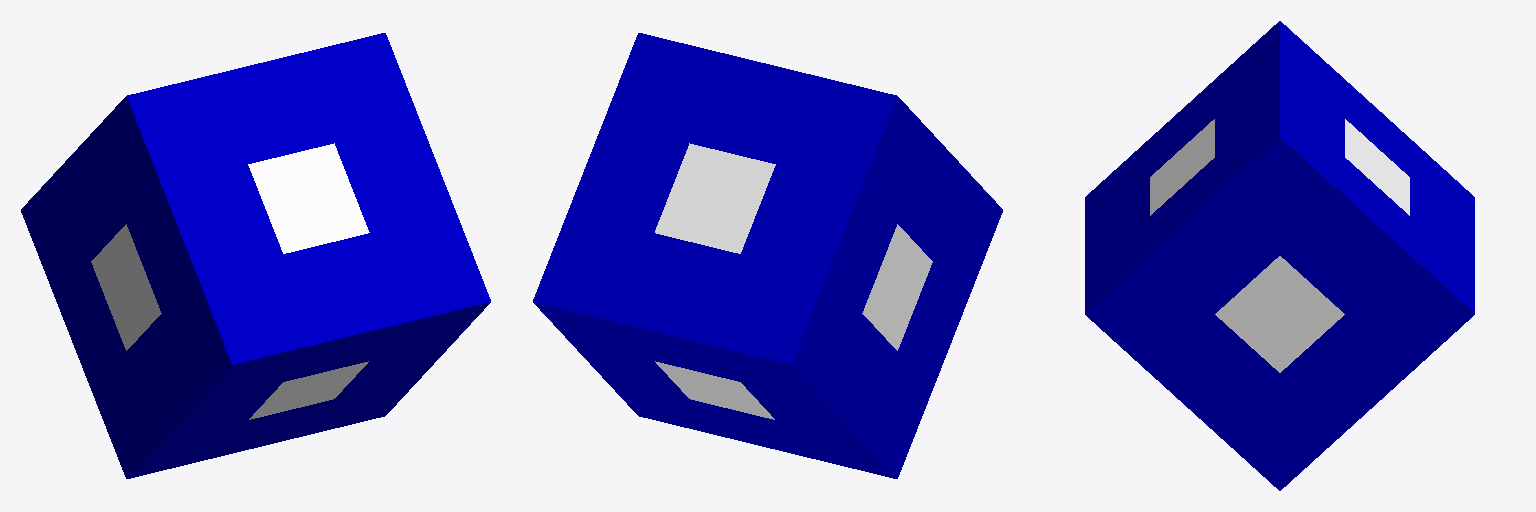
The robot description file, URDF, robot "rubiks":
<?xml version="1.0" ?>
<robot name="rubiks">

  <material name="white">
    <color rgba="1 1 1 1"/>
  </material>

  <material name="grey">
    <color rgba="0.5 0.5 0.5 1.0"/>
  </material>
            
  <material name="blue">
    <color rgba="0 0 .8 1"/>
  </material>
      
  <link name="world"/>

  <link name="rubiks">
    <visual>
      <origin rpy="0 0 0" xyz="0 0 0"/>
      <geometry>
		<mesh filename="noyau.stl" scale="0.001 0.001 0.001"/>
      </geometry>
      <material name="grey"/>
    </visual>
    <collision>
      <origin rpy="0 0 0" xyz="0 0 0"/>
      <geometry>
	    <mesh filename="noyau.stl" scale="0.001 0.001 0.001"/>
      </geometry>
    </collision>
  </link>

  <joint name="world_to_rubiks" type="floating">
    <origin xyz="0 0.078575 0" rpy="-0.785398163 0 0"/>
    <parent link="world"/>
    <child link="rubiks"/>
    <limit effort="100" velocity="100"/>
    <joint_properties damping="0.0" friction="0.0"/>
  </joint>
      
  <link name="centre01">
    <visual>
      <origin rpy="0 0 0" xyz="0 0 0"/>
      <geometry>
		<mesh filename="centre01.stl" scale="0.001 0.001 0.001"/>
      </geometry>
      <material name="white"/>
    </visual>
    <collision>
      <origin rpy="0 0 0" xyz="0 0 0"/>
      <geometry>
	    <mesh filename="centre01.stl" scale="0.001 0.001 0.001"/>
      </geometry>
    </collision>
  </link>

  <link name="centre02">
    <visual>
      <origin rpy="0 0 0" xyz="0 0 0"/>
      <geometry>
		<mesh filename="centre02.stl" scale="0.001 0.001 0.001"/>
      </geometry>
      <material name="white"/>
    </visual>
    <collision>
      <origin rpy="0 0 0" xyz="0 0 0"/>
      <geometry>
	    <mesh filename="centre02.stl" scale="0.001 0.001 0.001"/>
      </geometry>
    </collision>
  </link>

  <link name="centre03">
    <visual>
      <origin rpy="0 0 0" xyz="0 0 0"/>
      <geometry>
		<mesh filename="centre03.stl" scale="0.001 0.001 0.001"/>
      </geometry>
      <material name="white"/>
    </visual>
    <collision>
      <origin rpy="0 0 0" xyz="0 0 0"/>
      <geometry>
	    <mesh filename="centre03.stl" scale="0.001 0.001 0.001"/>
      </geometry>
    </collision>
  </link>

  <link name="centre04">
    <visual>
      <origin rpy="0 0 0" xyz="0 0 0"/>
      <geometry>
		<mesh filename="centre04.stl" scale="0.001 0.001 0.001"/>
      </geometry>
      <material name="white"/>
    </visual>
    <collision>
      <origin rpy="0 0 0" xyz="0 0 0"/>
      <geometry>
	    <mesh filename="centre04.stl" scale="0.001 0.001 0.001"/>
      </geometry>
    </collision>
  </link>

  <link name="centre05">
    <visual>
      <origin rpy="0 0 0" xyz="0 0 0"/>
      <geometry>
		<mesh filename="centre05.stl" scale="0.001 0.001 0.001"/>
      </geometry>
      <material name="white"/>
    </visual>
    <collision>
      <origin rpy="0 0 0" xyz="0 0 0"/>
      <geometry>
	    <mesh filename="centre05.stl" scale="0.001 0.001 0.001"/>
      </geometry>
    </collision>
  </link>
  
  <link name="centre06">
    <visual>
      <origin rpy="0 0 0" xyz="0 0 0"/>
      <geometry>
		<mesh filename="centre06.stl" scale="0.001 0.001 0.001"/>
      </geometry>
      <material name="white"/>
    </visual>
    <collision>
      <origin rpy="0 0 0" xyz="0 0 0"/>
      <geometry>
	    <mesh filename="centre06.stl" scale="0.001 0.001 0.001"/>
      </geometry>
    </collision>
  </link>    
  
  <joint name="centre01_joint" type="continuous">
    <axis xyz="0 0 -1"/>
    <origin xyz="0 0 0"/>
    <parent link="rubiks"/>
    <child link="centre01"/>
    <limit effort="100" velocity="100"/>
    <joint_properties damping="0.0" friction="0.0"/>
  </joint>

  <joint name="centre02_joint" type="continuous">
    <axis xyz="0 0 1"/>
    <origin xyz="0 0 0"/>
    <parent link="rubiks"/>
    <child link="centre02"/>
    <limit effort="100" velocity="100"/>
    <joint_properties damping="0.0" friction="0.0"/>
  </joint>
  
  <joint name="centre03_joint" type="continuous">
    <axis xyz="0 1 0"/>
    <origin xyz="0 0 0"/>
    <parent link="rubiks"/>
    <child link="centre03"/>
    <limit effort="100" velocity="100"/>
    <joint_properties damping="0.0" friction="0.0"/>
  </joint>
  
  <joint name="centre04_joint" type="continuous">
    <axis xyz="0 -1 0"/>
    <origin xyz="0 0 0"/>
    <parent link="rubiks"/>
    <child link="centre04"/>
    <limit effort="100" velocity="100"/>
    <joint_properties damping="0.0" friction="0.0"/>
  </joint>
  
  <joint name="centre05_joint" type="continuous">
    <axis xyz="1 0 0"/>
    <origin xyz="0 0 0"/>
    <parent link="rubiks"/>
    <child link="centre05"/>
    <limit effort="100" velocity="100"/>
    <joint_properties damping="0.0" friction="0.0"/>
  </joint>
  
  <joint name="centre06_joint" type="continuous">
    <axis xyz="-1 0 0"/>
    <origin xyz="0 0 0"/>
    <parent link="rubiks"/>
    <child link="centre06"/>
    <limit effort="100" velocity="100"/>
    <joint_properties damping="0.0" friction="0.0"/>
  </joint>
  
  <link name="bord01">
    <visual>
      <origin rpy="0 0 0" xyz="0 0 0"/>
      <geometry>
		<mesh filename="bord01.stl" scale="0.001 0.001 0.001"/>
      </geometry>
      <material name="blue">
        <color rgba="0 0 .8 1"/>
      </material>
    </visual>
    <collision>
      <origin rpy="0 0 0" xyz="0 0 0"/>
      <geometry>
	    <mesh filename="bord01.stl" scale="0.001 0.001 0.001"/>
      </geometry>
    </collision>
  </link>
  
  <joint name="bord01_joint" type="floating">
    <origin xyz="0 0 0"/>
    <parent link="rubiks"/>
    <child link="bord01"/>
    <limit effort="100" velocity="100"/>
    <joint_properties damping="0.0" friction="0.0"/>
  </joint>
  
  <link name="bord02">
    <visual>
      <origin rpy="0 0 0" xyz="0 0 0"/>
      <geometry>
		<mesh filename="bord02.stl" scale="0.001 0.001 0.001"/>
      </geometry>
      <material name="blue">
        <color rgba="0 0 .8 1"/>
      </material>
    </visual>
    <collision>
      <origin rpy="0 0 0" xyz="0 0 0"/>
      <geometry>
	    <mesh filename="bord02.stl" scale="0.001 0.001 0.001"/>
      </geometry>
    </collision>
  </link>
  
  <joint name="bord02_joint" type="floating">
    <origin xyz="0 0 0"/>
    <parent link="rubiks"/>
    <child link="bord02"/>
    <limit effort="100" velocity="100"/>
    <joint_properties damping="0.0" friction="0.0"/>
  </joint>
  
  <link name="bord03">
    <visual>
      <origin rpy="0 0 0" xyz="0 0 0"/>
      <geometry>
		<mesh filename="bord03.stl" scale="0.001 0.001 0.001"/>
      </geometry>
      <material name="blue">
        <color rgba="0 0 .8 1"/>
      </material>
    </visual>
    <collision>
      <origin rpy="0 0 0" xyz="0 0 0"/>
      <geometry>
	    <mesh filename="bord03.stl" scale="0.001 0.001 0.001"/>
      </geometry>
    </collision>
  </link>
  
  <joint name="bord03_joint" type="floating">
    <origin xyz="0 0 0"/>
    <parent link="rubiks"/>
    <child link="bord03"/>
    <limit effort="100" velocity="100"/>
    <joint_properties damping="0.0" friction="0.0"/>
  </joint>
  
  <link name="bord04">
    <visual>
      <origin rpy="0 0 0" xyz="0 0 0"/>
      <geometry>
		<mesh filename="bord04.stl" scale="0.001 0.001 0.001"/>
      </geometry>
      <material name="blue">
        <color rgba="0 0 .8 1"/>
      </material>
    </visual>
    <collision>
      <origin rpy="0 0 0" xyz="0 0 0"/>
      <geometry>
	    <mesh filename="bord04.stl" scale="0.001 0.001 0.001"/>
      </geometry>
    </collision>
  </link>
  
  <joint name="bord04_joint" type="floating">
    <origin xyz="0 0 0"/>
    <parent link="rubiks"/>
    <child link="bord04"/>
    <limit effort="100" velocity="100"/>
    <joint_properties damping="0.0" friction="0.0"/>
  </joint>
  
  <link name="bord05">
    <visual>
      <origin rpy="0 0 0" xyz="0 0 0"/>
      <geometry>
		<mesh filename="bord05.stl" scale="0.001 0.001 0.001"/>
      </geometry>
      <material name="blue">
        <color rgba="0 0 .8 1"/>
      </material>
    </visual>
    <collision>
      <origin rpy="0 0 0" xyz="0 0 0"/>
      <geometry>
	    <mesh filename="bord05.stl" scale="0.001 0.001 0.001"/>
      </geometry>
    </collision>
  </link>
  
  <joint name="bord05_joint" type="floating">
    <origin xyz="0 0 0"/>
    <parent link="rubiks"/>
    <child link="bord05"/>
    <limit effort="100" velocity="100"/>
    <joint_properties damping="0.0" friction="0.0"/>
  </joint>
  
  <link name="bord06">
    <visual>
      <origin rpy="0 0 0" xyz="0 0 0"/>
      <geometry>
		<mesh filename="bord06.stl" scale="0.001 0.001 0.001"/>
      </geometry>
      <material name="blue">
        <color rgba="0 0 .8 1"/>
      </material>
    </visual>
    <collision>
      <origin rpy="0 0 0" xyz="0 0 0"/>
      <geometry>
	    <mesh filename="bord06.stl" scale="0.001 0.001 0.001"/>
      </geometry>
    </collision>
  </link>
  
  <joint name="bord06_joint" type="floating">
    <origin xyz="0 0 0"/>
    <parent link="rubiks"/>
    <child link="bord06"/>
    <limit effort="100" velocity="100"/>
    <joint_properties damping="0.0" friction="0.0"/>
  </joint>
  
  <link name="bord07">
    <visual>
      <origin rpy="0 0 0" xyz="0 0 0"/>
      <geometry>
		<mesh filename="bord07.stl" scale="0.001 0.001 0.001"/>
      </geometry>
      <material name="blue">
        <color rgba="0 0 .8 1"/>
      </material>
    </visual>
    <collision>
      <origin rpy="0 0 0" xyz="0 0 0"/>
      <geometry>
	    <mesh filename="bord07.stl" scale="0.001 0.001 0.001"/>
      </geometry>
    </collision>
  </link>
  
  <joint name="bord07_joint" type="floating">
    <origin xyz="0 0 0"/>
    <parent link="rubiks"/>
    <child link="bord07"/>
    <limit effort="100" velocity="100"/>
    <joint_properties damping="0.0" friction="0.0"/>
  </joint>
  
  <link name="bord08">
    <visual>
      <origin rpy="0 0 0" xyz="0 0 0"/>
      <geometry>
		<mesh filename="bord08.stl" scale="0.001 0.001 0.001"/>
      </geometry>
      <material name="blue">
        <color rgba="0 0 .8 1"/>
      </material>
    </visual>
    <collision>
      <origin rpy="0 0 0" xyz="0 0 0"/>
      <geometry>
	    <mesh filename="bord08.stl" scale="0.001 0.001 0.001"/>
      </geometry>
    </collision>
  </link>
  
  <joint name="bord08_joint" type="floating">
    <origin xyz="0 0 0"/>
    <parent link="rubiks"/>
    <child link="bord08"/>
    <limit effort="100" velocity="100"/>
    <joint_properties damping="0.0" friction="0.0"/>
  </joint>
  
  <link name="bord09">
    <visual>
      <origin rpy="0 0 0" xyz="0 0 0"/>
      <geometry>
		<mesh filename="bord09.stl" scale="0.001 0.001 0.001"/>
      </geometry>
      <material name="blue">
        <color rgba="0 0 .8 1"/>
      </material>
    </visual>
    <collision>
      <origin rpy="0 0 0" xyz="0 0 0"/>
      <geometry>
	    <mesh filename="bord09.stl" scale="0.001 0.001 0.001"/>
      </geometry>
    </collision>
  </link>
  
  <joint name="bord09_joint" type="floating">
    <origin xyz="0 0 0"/>
    <parent link="rubiks"/>
    <child link="bord09"/>
    <limit effort="100" velocity="100"/>
    <joint_properties damping="0.0" friction="0.0"/>
  </joint>
  
  <link name="bord10">
    <visual>
      <origin rpy="0 0 0" xyz="0 0 0"/>
      <geometry>
		<mesh filename="bord10.stl" scale="0.001 0.001 0.001"/>
      </geometry>
      <material name="blue">
        <color rgba="0 0 .8 1"/>
      </material>
    </visual>
    <collision>
      <origin rpy="0 0 0" xyz="0 0 0"/>
      <geometry>
	    <mesh filename="bord10.stl" scale="0.001 0.001 0.001"/>
      </geometry>
    </collision>
  </link>
  
  <joint name="bord10_joint" type="floating">
    <origin xyz="0 0 0"/>
    <parent link="rubiks"/>
    <child link="bord10"/>
    <limit effort="100" velocity="100"/>
    <joint_properties damping="0.0" friction="0.0"/>
  </joint>
  
  <link name="bord11">
    <visual>
      <origin rpy="0 0 0" xyz="0 0 0"/>
      <geometry>
		<mesh filename="bord11.stl" scale="0.001 0.001 0.001"/>
      </geometry>
      <material name="blue">
        <color rgba="0 0 .8 1"/>
      </material>
    </visual>
    <collision>
      <origin rpy="0 0 0" xyz="0 0 0"/>
      <geometry>
	    <mesh filename="bord11.stl" scale="0.001 0.001 0.001"/>
      </geometry>
    </collision>
  </link>
  
  <joint name="bord11_joint" type="floating">
    <origin xyz="0 0 0"/>
    <parent link="rubiks"/>
    <child link="bord11"/>
    <limit effort="100" velocity="100"/>
    <joint_properties damping="0.0" friction="0.0"/>
  </joint>
  
  <link name="bord12">
    <visual>
      <origin rpy="0 0 0" xyz="0 0 0"/>
      <geometry>
		<mesh filename="bord12.stl" scale="0.001 0.001 0.001"/>
      </geometry>
      <material name="blue">
        <color rgba="0 0 .8 1"/>
      </material>
    </visual>
    <collision>
      <origin rpy="0 0 0" xyz="0 0 0"/>
      <geometry>
	    <mesh filename="bord12.stl" scale="0.001 0.001 0.001"/>
      </geometry>
    </collision>
  </link>
  
  <joint name="bord12_joint" type="floating">
    <origin xyz="0 0 0"/>
    <parent link="rubiks"/>
    <child link="bord12"/>
    <limit effort="100" velocity="100"/>
    <joint_properties damping="0.0" friction="0.0"/>
  </joint>
  
  <link name="coin01">
    <visual>
      <origin rpy="0 0 0" xyz="0 0 0"/>
      <geometry>
		<mesh filename="coin01.stl" scale="0.001 0.001 0.001"/>
      </geometry>
      <material name="blue">
        <color rgba="0 0 .8 1"/>
      </material>
    </visual>
    <collision>
      <origin rpy="0 0 0" xyz="0 0 0"/>
      <geometry>
	    <mesh filename="coin01.stl" scale="0.001 0.001 0.001"/>
      </geometry>
    </collision>
  </link>
  
  <joint name="coin01_joint" type="floating">
    <origin xyz="0 0 0"/>
    <parent link="rubiks"/>
    <child link="coin01"/>
    <limit effort="100" velocity="100"/>
    <joint_properties damping="0.0" friction="0.0"/>
  </joint>  
  
  <link name="coin02">
    <visual>
      <origin rpy="0 0 0" xyz="0 0 0"/>
      <geometry>
		<mesh filename="coin02.stl" scale="0.001 0.001 0.001"/>
      </geometry>
      <material name="blue">
        <color rgba="0 0 .8 1"/>
      </material>
    </visual>
    <collision>
      <origin rpy="0 0 0" xyz="0 0 0"/>
      <geometry>
	    <mesh filename="coin02.stl" scale="0.001 0.001 0.001"/>
      </geometry>
    </collision>
  </link>
  
  <joint name="coin02_joint" type="floating">
    <origin xyz="0 0 0"/>
    <parent link="rubiks"/>
    <child link="coin02"/>
    <limit effort="100" velocity="100"/>
    <joint_properties damping="0.0" friction="0.0"/>
  </joint>  
  
  <link name="coin03">
    <visual>
      <origin rpy="0 0 0" xyz="0 0 0"/>
      <geometry>
		<mesh filename="coin03.stl" scale="0.001 0.001 0.001"/>
      </geometry>
      <material name="blue">
        <color rgba="0 0 .8 1"/>
      </material>
    </visual>
    <collision>
      <origin rpy="0 0 0" xyz="0 0 0"/>
      <geometry>
	    <mesh filename="coin03.stl" scale="0.001 0.001 0.001"/>
      </geometry>
    </collision>
  </link>
  
  <joint name="coin03_joint" type="floating">
    <origin xyz="0 0 0"/>
    <parent link="rubiks"/>
    <child link="coin03"/>
    <limit effort="100" velocity="100"/>
    <joint_properties damping="0.0" friction="0.0"/>
  </joint>  
  
  <link name="coin04">
    <visual>
      <origin rpy="0 0 0" xyz="0 0 0"/>
      <geometry>
		<mesh filename="coin04.stl" scale="0.001 0.001 0.001"/>
      </geometry>
      <material name="blue">
        <color rgba="0 0 .8 1"/>
      </material>
    </visual>
    <collision>
      <origin rpy="0 0 0" xyz="0 0 0"/>
      <geometry>
	    <mesh filename="coin04.stl" scale="0.001 0.001 0.001"/>
      </geometry>
    </collision>
  </link>
  
  <joint name="coin04_joint" type="floating">
    <origin xyz="0 0 0"/>
    <parent link="rubiks"/>
    <child link="coin04"/>
    <limit effort="100" velocity="100"/>
    <joint_properties damping="0.0" friction="0.0"/>
  </joint>  
  
  <link name="coin05">
    <visual>
      <origin rpy="0 0 0" xyz="0 0 0"/>
      <geometry>
		<mesh filename="coin05.stl" scale="0.001 0.001 0.001"/>
      </geometry>
      <material name="blue">
        <color rgba="0 0 .8 1"/>
      </material>
    </visual>
    <collision>
      <origin rpy="0 0 0" xyz="0 0 0"/>
      <geometry>
	    <mesh filename="coin05.stl" scale="0.001 0.001 0.001"/>
      </geometry>
    </collision>
  </link>
  
  <joint name="coin05_joint" type="floating">
    <origin xyz="0 0 0"/>
    <parent link="rubiks"/>
    <child link="coin05"/>
    <limit effort="100" velocity="100"/>
    <joint_properties damping="0.0" friction="0.0"/>
  </joint>  
  
  <link name="coin06">
    <visual>
      <origin rpy="0 0 0" xyz="0 0 0"/>
      <geometry>
		<mesh filename="coin06.stl" scale="0.001 0.001 0.001"/>
      </geometry>
      <material name="blue">
        <color rgba="0 0 .8 1"/>
      </material>
    </visual>
    <collision>
      <origin rpy="0 0 0" xyz="0 0 0"/>
      <geometry>
	    <mesh filename="coin06.stl" scale="0.001 0.001 0.001"/>
      </geometry>
    </collision>
  </link>
  
  <joint name="coin06_joint" type="floating">
    <origin xyz="0 0 0"/>
    <parent link="rubiks"/>
    <child link="coin06"/>
    <limit effort="100" velocity="100"/>
    <joint_properties damping="0.0" friction="0.0"/>
  </joint>  
  
  <link name="coin07">
    <visual>
      <origin rpy="0 0 0" xyz="0 0 0"/>
      <geometry>
		<mesh filename="coin07.stl" scale="0.001 0.001 0.001"/>
      </geometry>
      <material name="blue">
        <color rgba="0 0 .8 1"/>
      </material>
    </visual>
    <collision>
      <origin rpy="0 0 0" xyz="0 0 0"/>
      <geometry>
	    <mesh filename="coin07.stl" scale="0.001 0.001 0.001"/>
      </geometry>
    </collision>
  </link>
  
  <joint name="coin07_joint" type="floating">
    <origin xyz="0 0 0"/>
    <parent link="rubiks"/>
    <child link="coin07"/>
    <limit effort="100" velocity="100"/>
    <joint_properties damping="0.0" friction="0.0"/>
  </joint>  
  
  <link name="coin08">
    <visual>
      <origin rpy="0 0 0" xyz="0 0 0"/>
      <geometry>
		<mesh filename="coin08.stl" scale="0.001 0.001 0.001"/>
      </geometry>
      <material name="blue">
        <color rgba="0 0 .8 1"/>
      </material>
    </visual>
    <collision>
      <origin rpy="0 0 0" xyz="0 0 0"/>
      <geometry>
	    <mesh filename="coin08.stl" scale="0.001 0.001 0.001"/>
      </geometry>
    </collision>
  </link>
  
  <joint name="coin08_joint" type="floating">
    <origin xyz="0 0 0"/>
    <parent link="rubiks"/>
    <child link="coin08"/>
    <limit effort="100" velocity="100"/>
    <joint_properties damping="0.0" friction="0.0"/>
  </joint>  
</robot>

--- Facts derived from the render (not from the file) ---
Views: 3 orthographic renders of the robot side by side, from view 1: azimuth 30°, elevation 25°; view 2: azimuth 150°, elevation 25°; view 3: azimuth 270°, elevation 25°.
Model rubiks with 28 links and 27 joints (6 continuous, 21 floating), rooted at world, posed every joint at zero.
Links seen in each view (by area): view 1: coin05, coin06, bord11, bord08, coin08, bord03, centre04, bord07, coin07, bord10, coin01, bord09 (+7 smaller); view 2: coin04, coin06, bord12, bord06, coin02, bord04, bord07, coin07, centre02, bord09, coin01, bord10 (+7 smaller); view 3: coin07, bord03, bord04, coin02, coin08, coin03, centre05, bord01, bord02, bord07, coin06, bord12 (+7 smaller).
Boxes of the visible links, x1,y1,x2,y2 form: coin05: [162, 254, 317, 402]; coin06: [91, 75, 247, 223]; bord11: [127, 165, 282, 312]; bord08: [283, 233, 404, 381]; coin08: [370, 212, 490, 360]; bord03: [335, 122, 455, 232]; centre04: [248, 143, 369, 253]; bord07: [213, 54, 333, 163]; coin07: [299, 33, 420, 142]; bord10: [126, 314, 282, 440]; coin01: [91, 352, 247, 478]; bord09: [56, 262, 125, 388]; coin04: [706, 254, 861, 402]; coin06: [776, 75, 932, 223]; bord12: [741, 165, 896, 312]; bord06: [619, 233, 740, 381]; coin02: [533, 212, 653, 360]; bord04: [568, 122, 688, 232]; bord07: [690, 54, 810, 163]; coin07: [603, 33, 724, 142]; centre02: [655, 143, 775, 253]; bord09: [741, 314, 897, 440]; coin01: [776, 352, 932, 478]; bord10: [898, 262, 967, 388]; coin07: [1215, 99, 1344, 254]; bord03: [1150, 158, 1279, 313]; bord04: [1280, 158, 1409, 313]; coin02: [1345, 217, 1474, 372]; coin08: [1085, 217, 1214, 372]; coin03: [1215, 374, 1344, 490]; centre05: [1215, 256, 1344, 372]; bord01: [1280, 315, 1409, 431]; bord02: [1150, 315, 1279, 431]; bord07: [1215, 60, 1344, 156]; coin06: [1215, 21, 1344, 117]; bord12: [1345, 80, 1409, 176].
Bounding box of the posed robot: 0.0571 × 0.0808 × 0.0808 m (x, y, z).
Meshes: 27 distinct files referenced, 27 mesh visuals loaded (27 binary STL).
